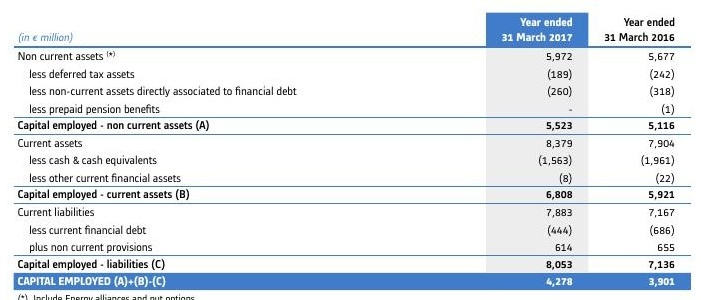table: (0, 0, 701, 300)
